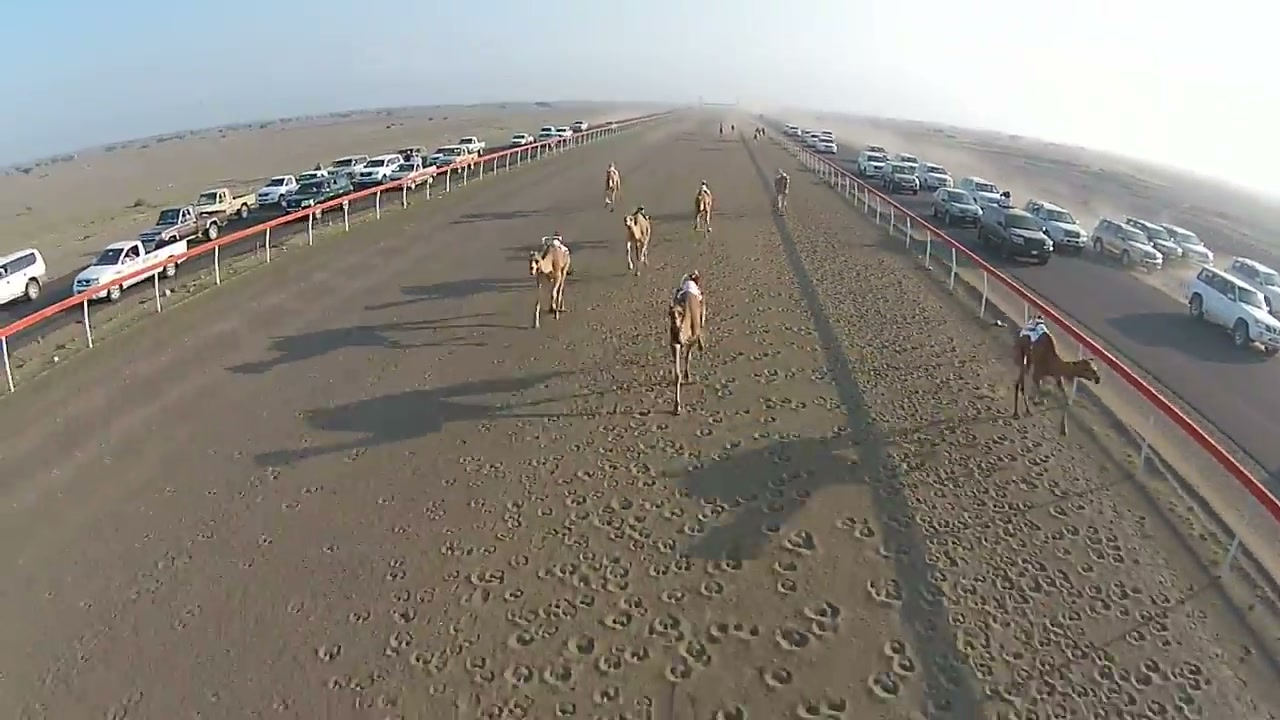animal_footprint: (82, 193, 1279, 719), (503, 247, 1175, 716), (789, 212, 1256, 716), (545, 333, 1061, 681), (430, 448, 855, 716), (504, 472, 842, 711), (28, 468, 297, 717), (803, 601, 842, 638), (884, 638, 916, 677), (794, 697, 848, 719), (867, 671, 902, 700), (679, 638, 712, 668), (867, 578, 903, 605), (838, 516, 877, 539), (775, 626, 812, 650), (665, 657, 695, 683), (785, 530, 817, 554), (761, 666, 794, 688), (566, 634, 596, 656), (508, 628, 537, 649), (711, 703, 749, 719), (730, 621, 759, 639), (317, 644, 341, 661), (773, 560, 799, 574), (776, 577, 798, 593)
